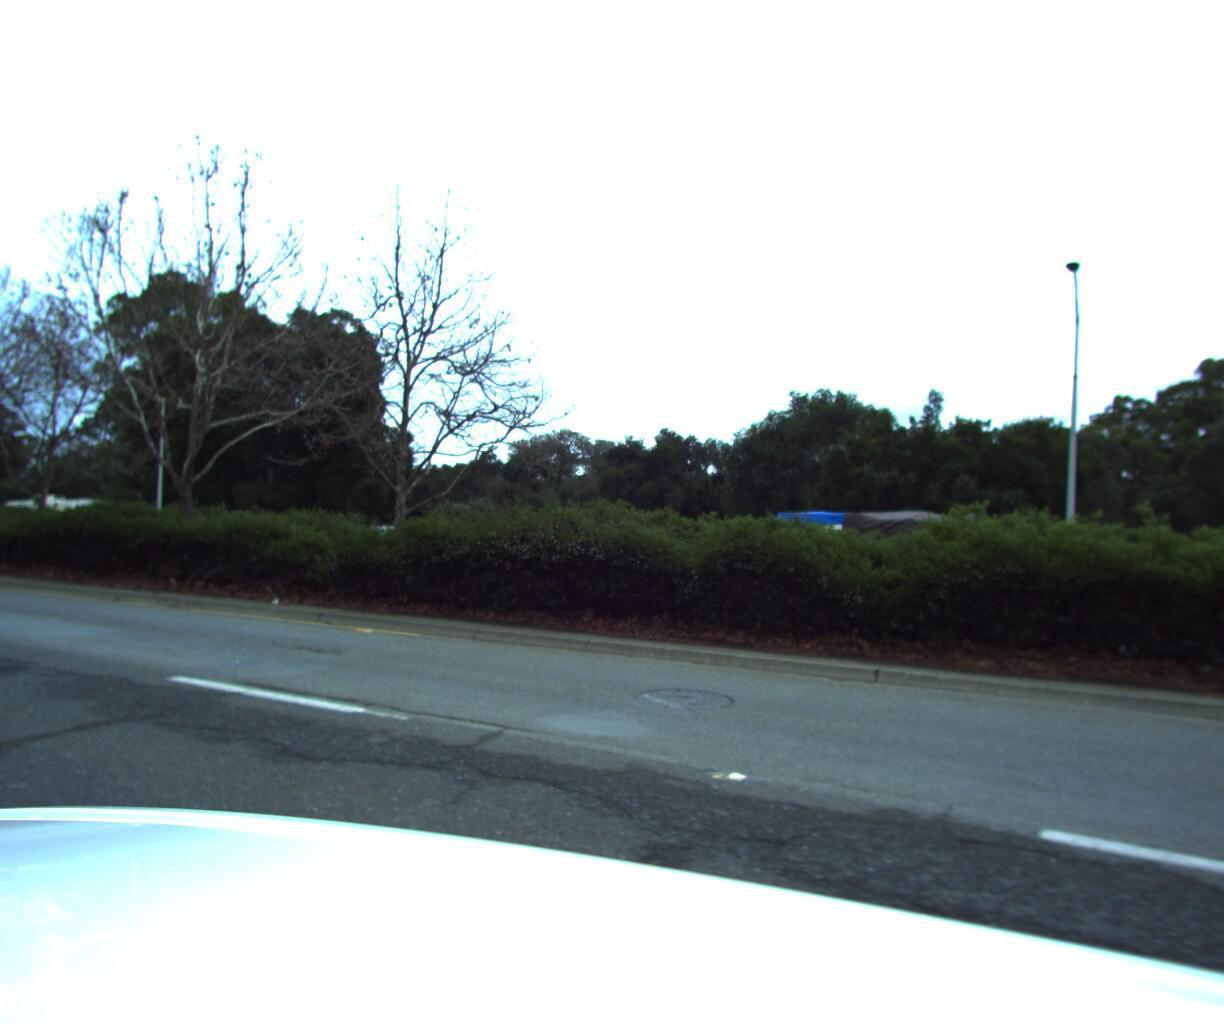other_vehicle: (762, 504, 996, 580), (0, 488, 122, 550)
